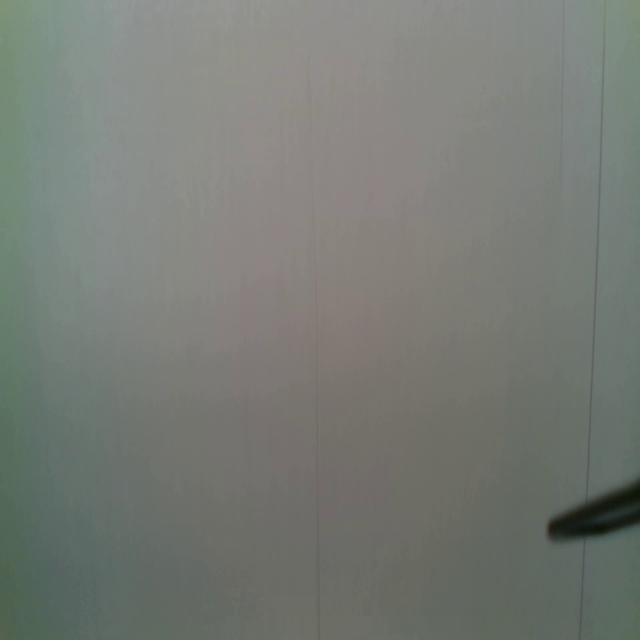crease: (585, 0, 608, 494), (309, 180, 323, 640), (559, 0, 567, 177), (576, 541, 589, 639)
